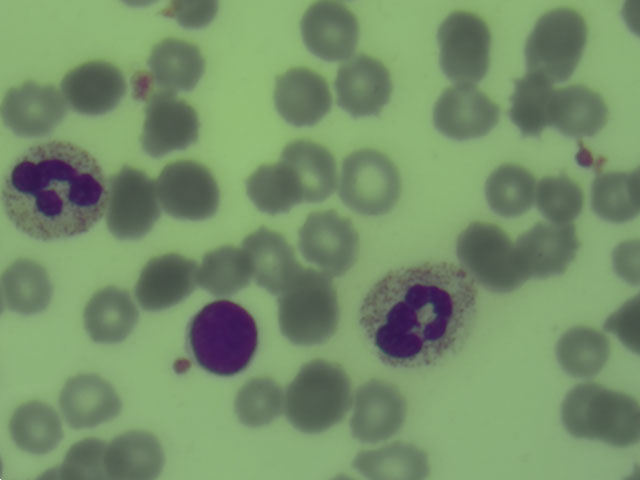Platelets: (127, 70, 157, 100), (572, 143, 597, 174), (171, 354, 192, 379)
RBC: (350, 437, 431, 480), (348, 383, 403, 439), (303, 213, 357, 270), (281, 286, 335, 343), (231, 371, 285, 428), (293, 366, 347, 423), (556, 382, 610, 439), (556, 321, 610, 378), (461, 226, 515, 283), (522, 219, 576, 276), (532, 169, 586, 226), (481, 164, 535, 221), (554, 82, 608, 139), (509, 74, 563, 131), (532, 11, 586, 68), (438, 83, 492, 140), (438, 22, 492, 79), (337, 57, 391, 114), (302, 4, 356, 61), (276, 69, 330, 126), (194, 243, 248, 300), (138, 253, 192, 310), (64, 369, 118, 426), (9, 398, 63, 455), (84, 285, 138, 342), (162, 160, 216, 217), (105, 175, 159, 232), (142, 97, 196, 154), (150, 35, 204, 92), (64, 60, 118, 117), (4, 78, 58, 135), (242, 226, 296, 283), (243, 159, 297, 216), (282, 139, 336, 196), (343, 150, 397, 207), (587, 169, 640, 226), (1, 257, 54, 314), (111, 428, 164, 480), (60, 434, 113, 480), (597, 389, 640, 443), (602, 296, 640, 356), (606, 232, 640, 288), (162, 1, 227, 29)
WBC: (367, 263, 472, 373), (5, 140, 107, 243), (191, 297, 262, 380)
